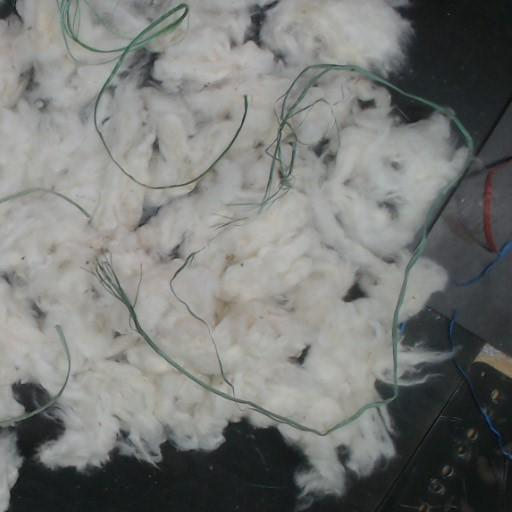cotton: (0, 0, 468, 506)
thread: (109, 64, 511, 436), (61, 0, 248, 188), (0, 326, 70, 428), (454, 360, 511, 461), (259, 112, 293, 210), (0, 187, 91, 220), (458, 238, 511, 286)
